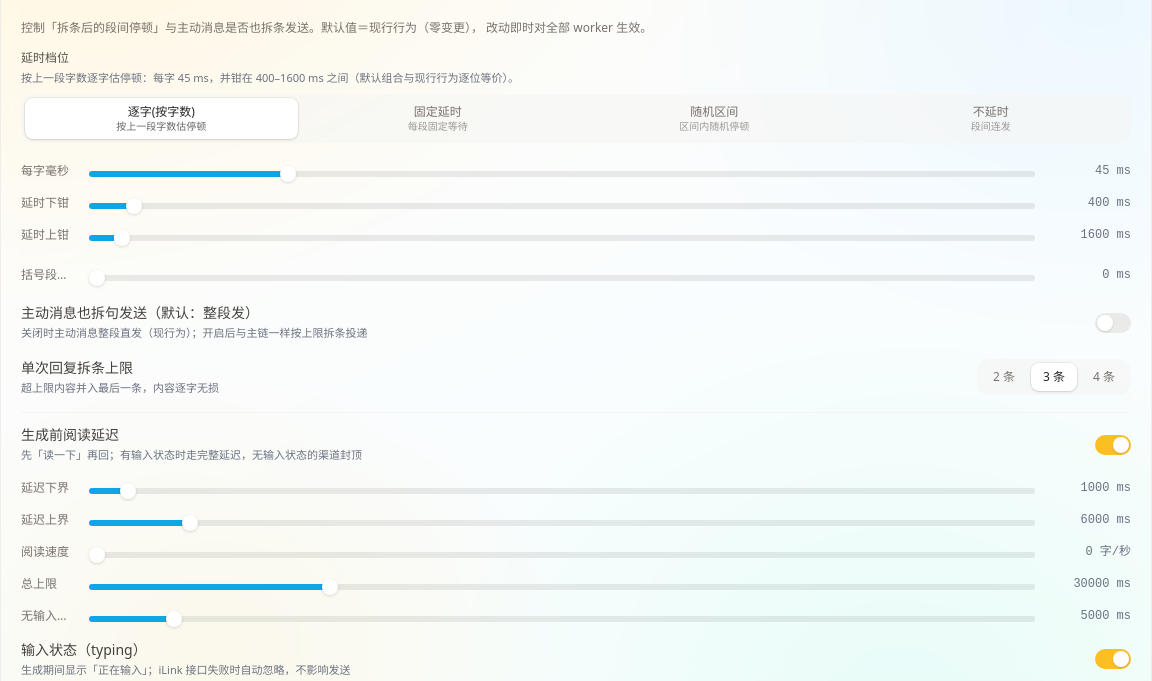
保存（partial merge + 回执纪律） › 撤销修改回到服务端值
Expected: the button "逐字(按字数) 按上一段字数估停顿" is shown, [25,98,298,139]
Set the slider labelled "每字毫秒" to "90" at (502, 174), box [89,171,1035,177]
(page scrolled)
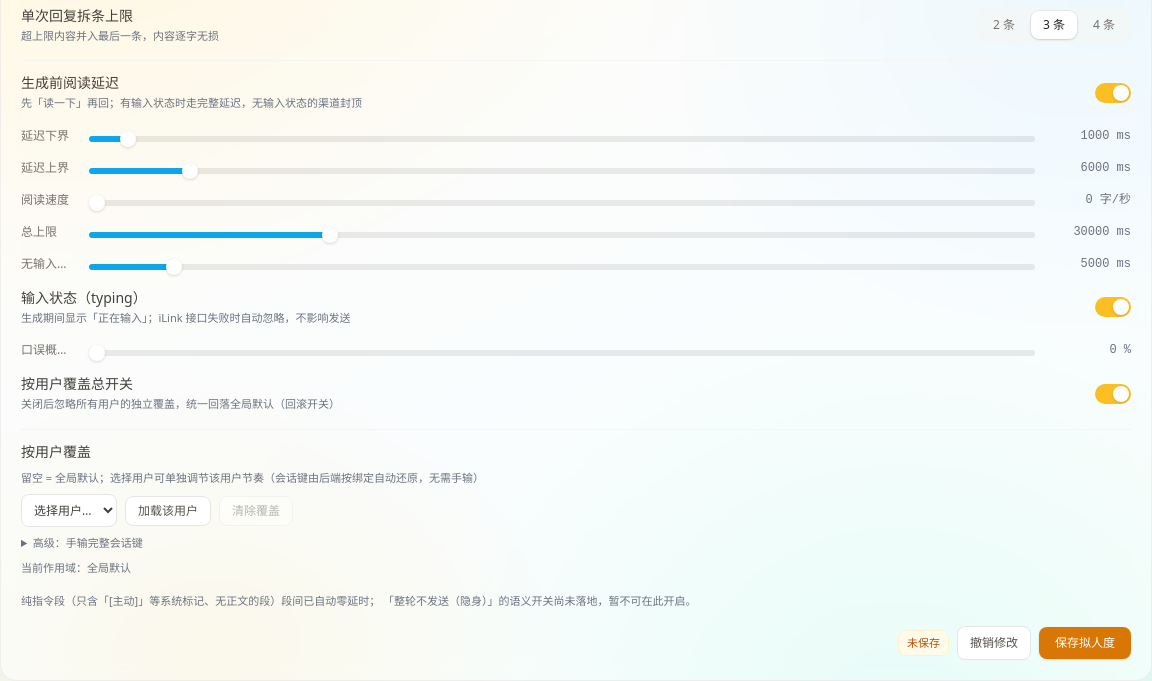
Click the button "撤销修改".
click(994, 643)  # box [957,626,1031,660]
(page scrolled)
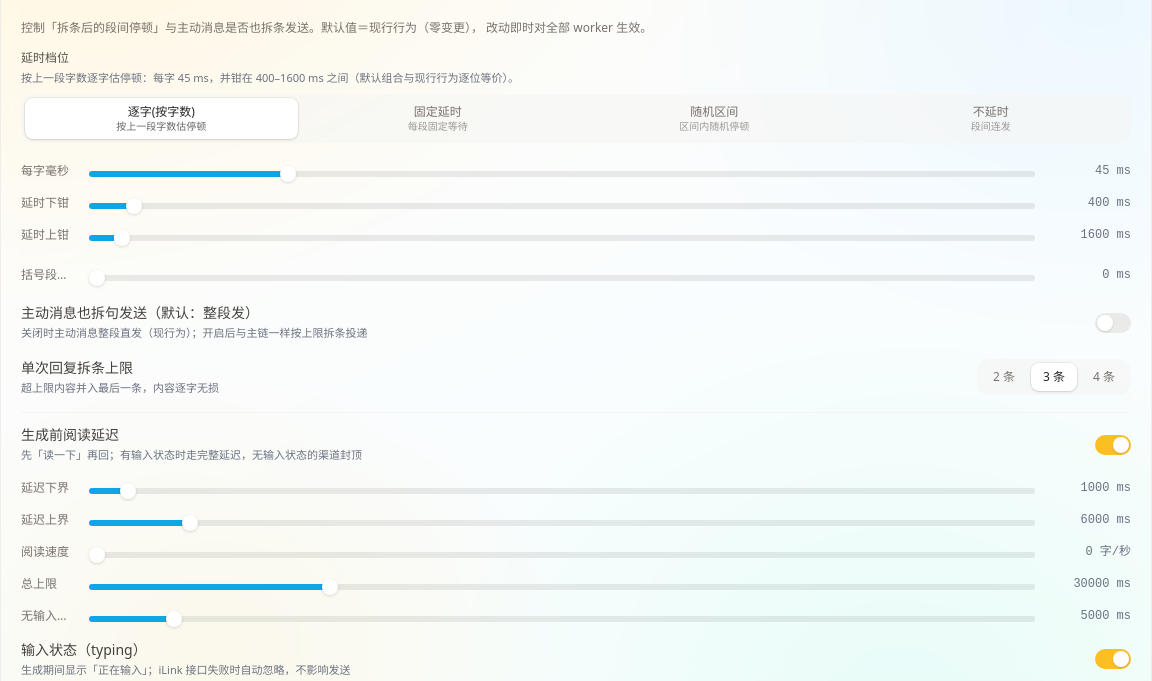
Expected: the slider labelled "每字毫秒" holds "45", [89,171,1035,177]
Expected: the text "未保存" is gone
